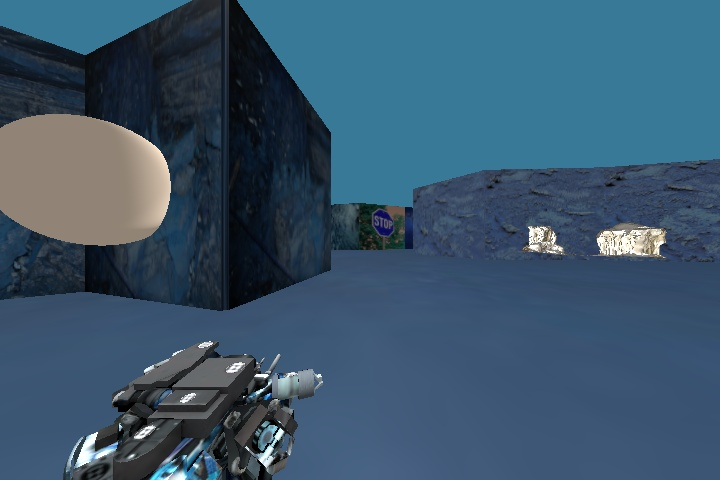formation: (590, 219, 675, 261), (510, 210, 566, 262)
stop_sign: (371, 204, 395, 239)
white_sphere: (1, 112, 177, 261)
